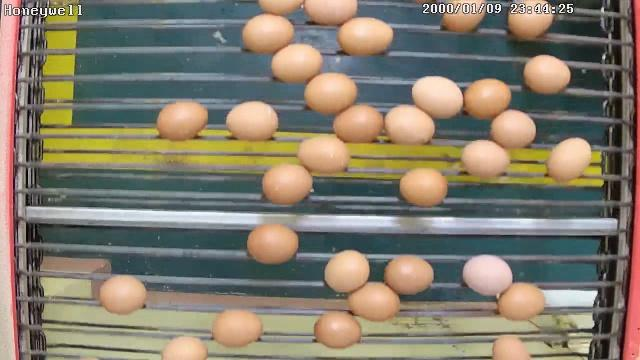egg: (294, 132, 352, 177), (302, 71, 358, 116), (224, 99, 280, 144), (336, 15, 394, 58), (344, 280, 402, 323), (410, 74, 464, 120), (242, 10, 296, 56), (269, 41, 324, 85), (154, 99, 210, 142), (461, 252, 513, 298), (259, 162, 313, 206), (383, 103, 437, 147), (545, 134, 592, 184), (246, 223, 300, 266), (382, 252, 434, 296), (322, 248, 372, 293), (332, 102, 383, 146), (398, 166, 450, 209), (488, 106, 538, 150), (210, 308, 264, 348), (463, 77, 512, 121), (460, 138, 510, 181), (98, 274, 148, 316), (522, 54, 572, 96), (498, 280, 546, 322), (312, 310, 362, 350), (506, 0, 556, 40)
